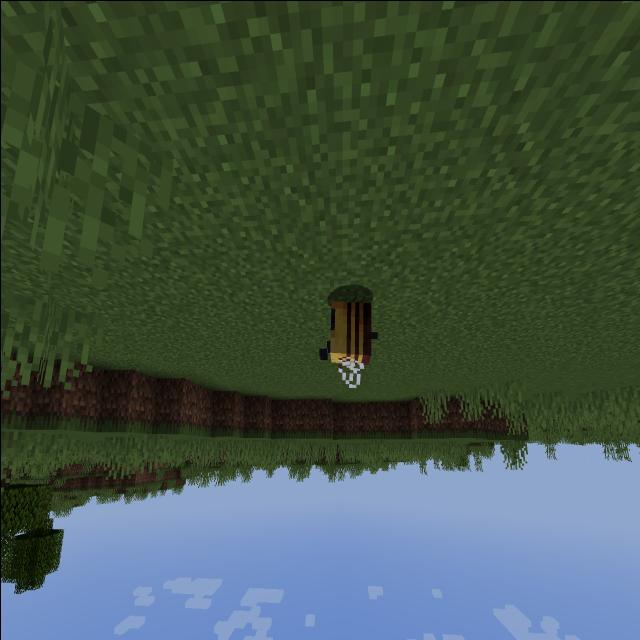bee: (314, 267, 384, 399)
